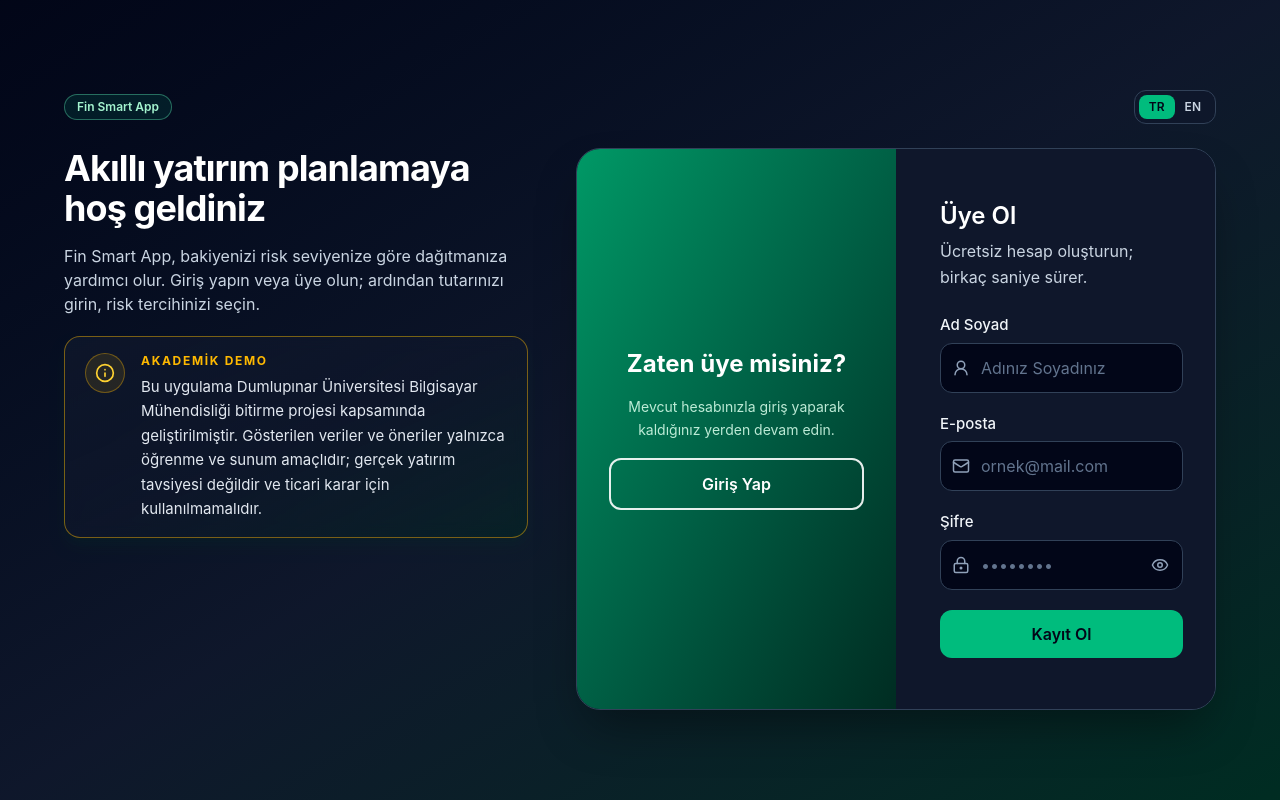
Test case: LoginPage › switches language to EN via toggle
Click the button "EN" at (1193, 107), box [1175,95,1211,119]
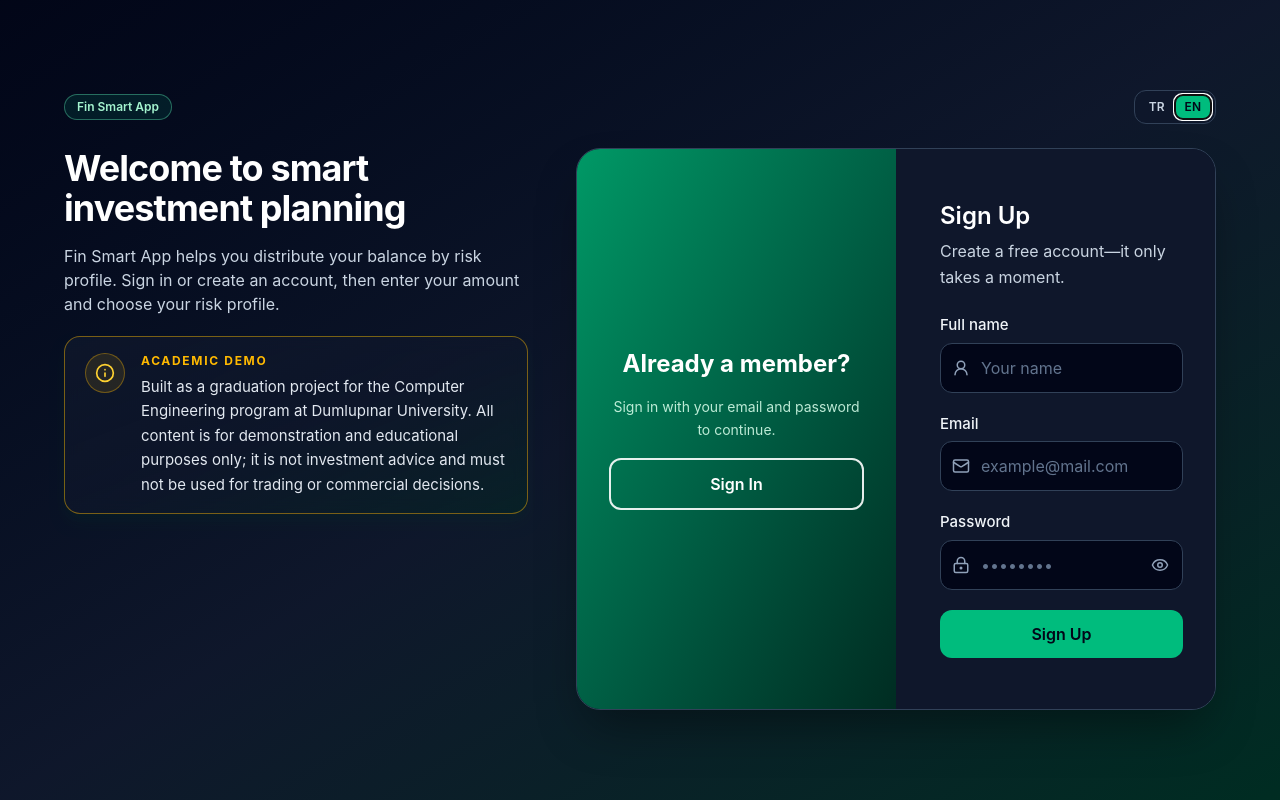
Expected: the field labelled "Full name" is shown, [940,343,1183,393]
Expected: the heading "Sign Up" is shown, [940,201,1030,230]
